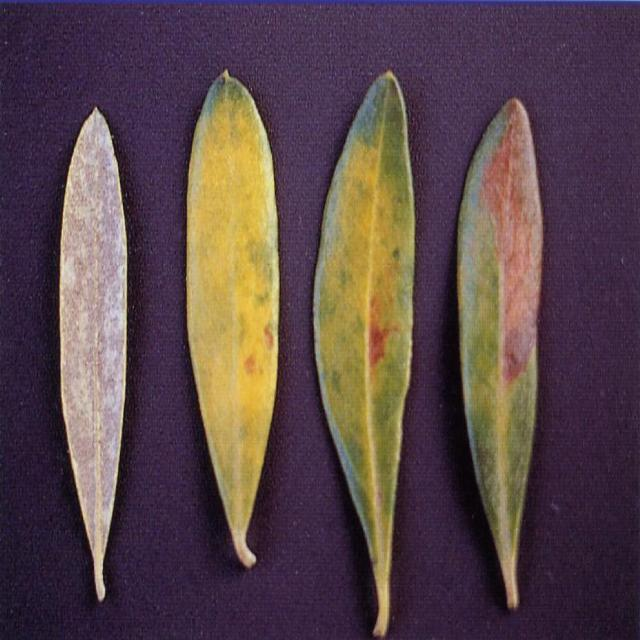OlivePeacockSpot: (314, 71, 415, 580), (187, 71, 279, 566), (458, 98, 542, 572), (60, 108, 127, 592)
